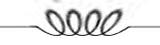inductor: (33, 4, 133, 40)
